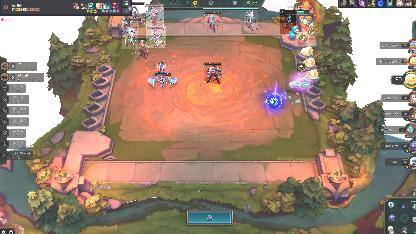1_lillia: (146, 4, 164, 28)
1_lux: (244, 10, 258, 30)
1_nidalee: (280, 10, 296, 34), (204, 12, 222, 32)
1_rakan: (132, 36, 150, 60)
1_skarner: (152, 61, 174, 89)
1_sylas: (204, 62, 222, 84)
1_varus: (146, 26, 166, 48)
2_nidalee: (122, 17, 138, 49)
